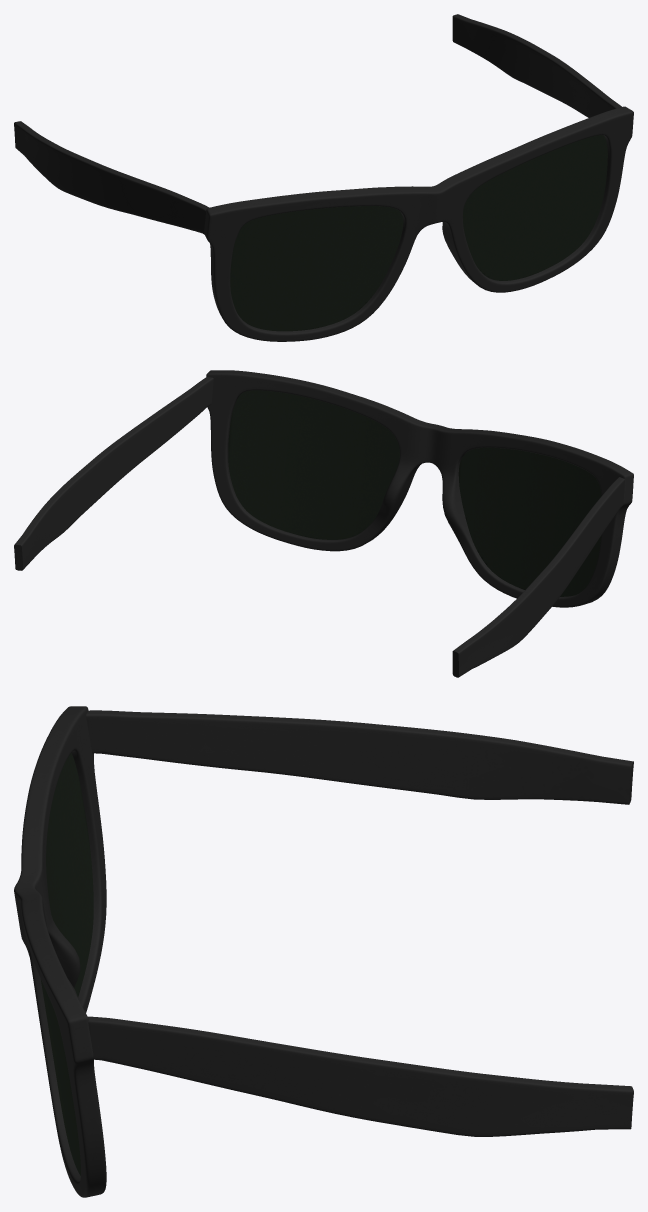
Rendered from JUSTIN_app.glb.
3 views of the same model, one above another, from view 1: azimuth 30°, elevation 25°; view 2: azimuth 150°, elevation 25°; view 3: azimuth 270°, elevation 25° (orthographic). The views are drawn at different scales.
Visible parts, largest first — view 1: armacao_obj; view 2: armacao_obj; view 3: armacao_obj.
Boxes of the visible parts, left/top/right/bottom form: armacao_obj: left=14, top=14, right=633, bottom=341; armacao_obj: left=14, top=370, right=633, bottom=677; armacao_obj: left=14, top=706, right=633, bottom=1197.
Size of the model in its own units: 0.1571 by 0.0502 by 0.1198.
2 materials, 2 textured.
